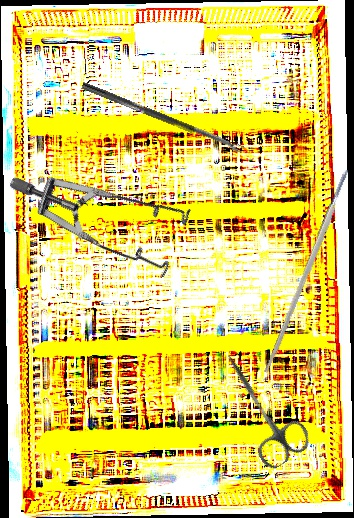Iris Scissors: (203, 341, 316, 473)
Scalpel Handle: (261, 168, 353, 375)
Speculum: (6, 103, 214, 318)
Surgical Spoon: (80, 81, 245, 155)
